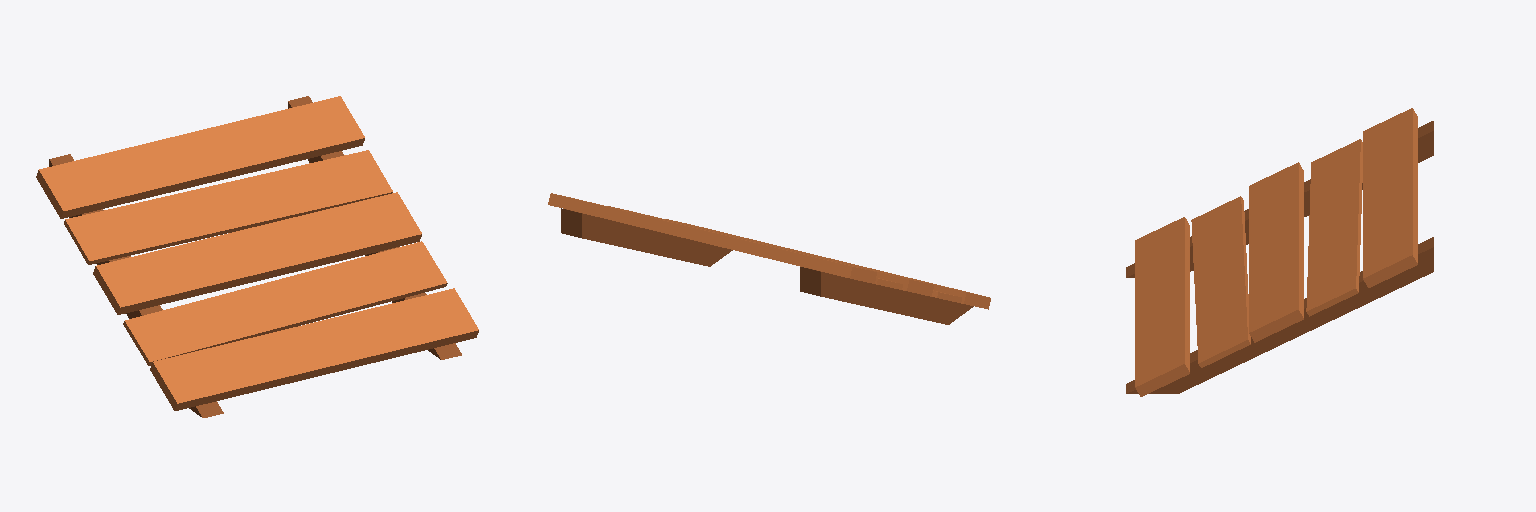
Rendered from bridgeRamp.obj.
The picture shows the model from 3 angles: view 1: azimuth 30°, elevation 25°; view 2: azimuth 150°, elevation 25°; view 3: azimuth 270°, elevation 25°; orthographic projection.
Visible parts, largest first — view 1: bridgeRamp; view 2: bridgeRamp; view 3: bridgeRamp.
Part boxes in pixels (x1,y1,x2,y2): bridgeRamp: (36, 96, 478, 417); bridgeRamp: (548, 193, 990, 324); bridgeRamp: (1126, 108, 1433, 396).
Bounding box in the file's own units: 1 × 0.4726 × 0.882.